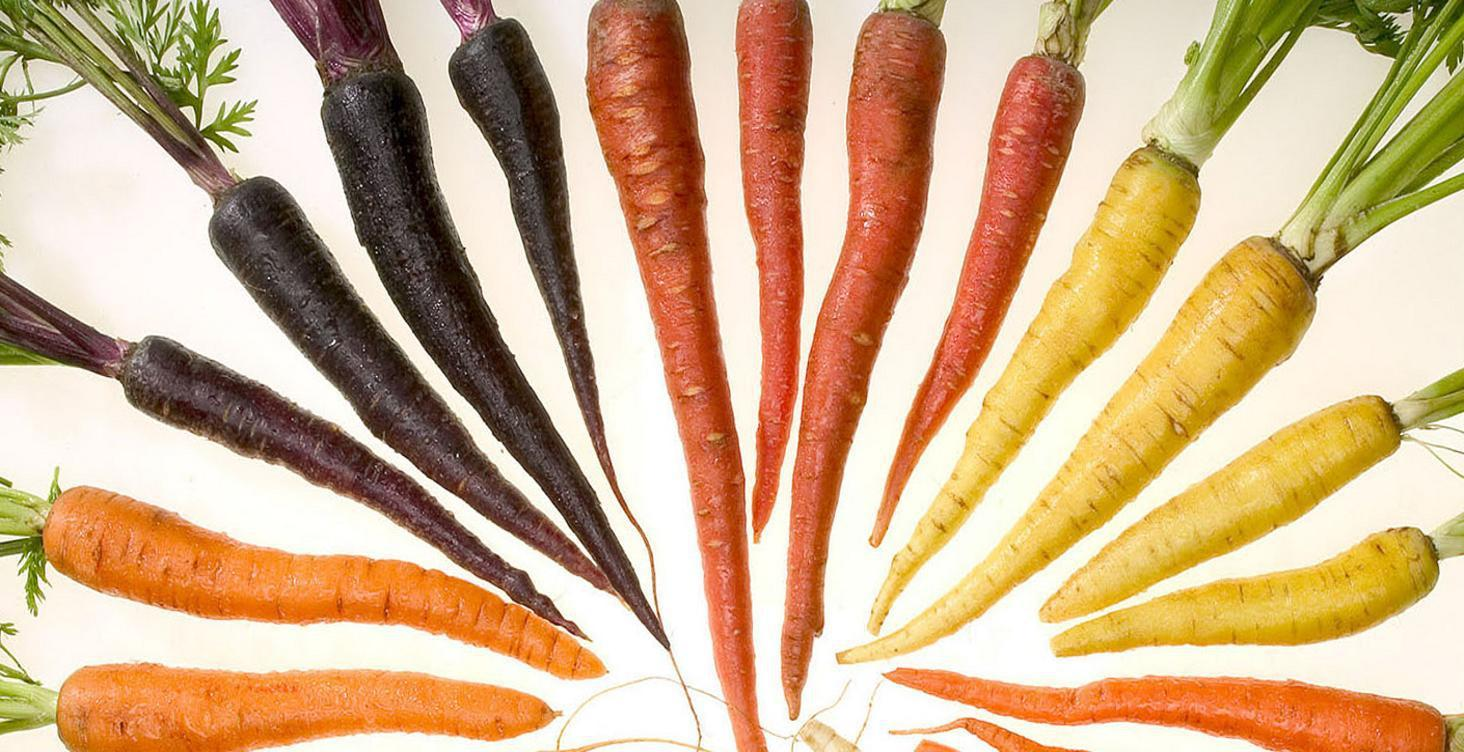carrot: (0, 484, 611, 685), (884, 660, 1464, 752), (88, 646, 548, 746)
